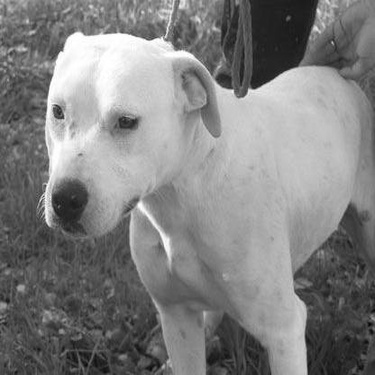dog: (39, 21, 371, 371)
